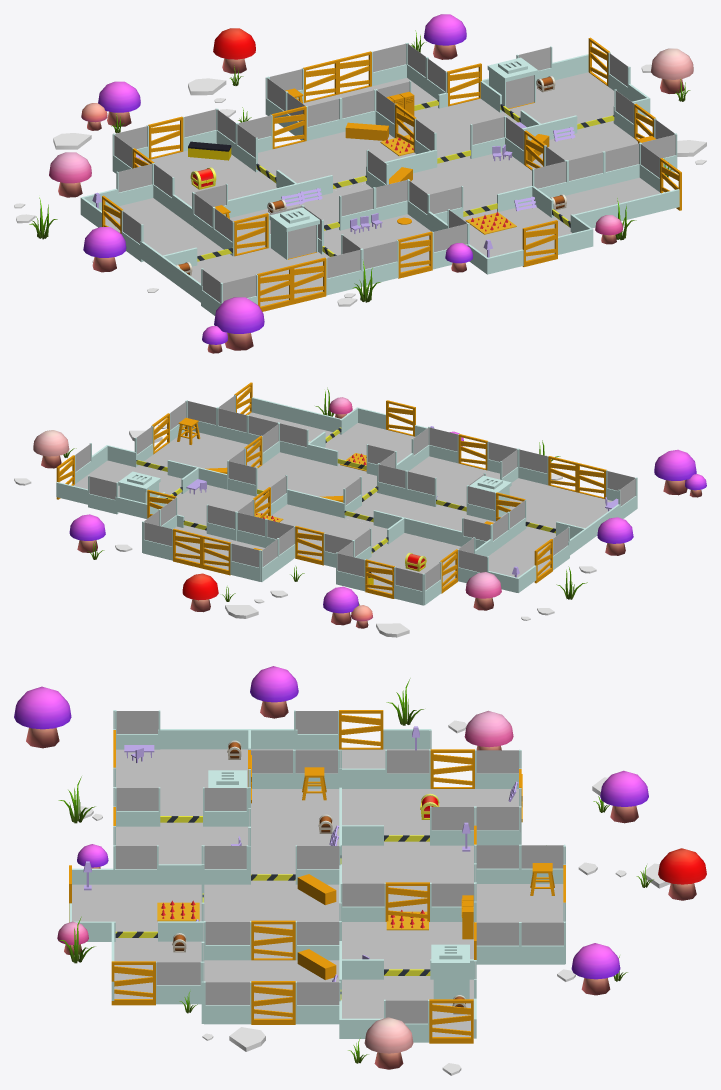
Rendered from map5.fbx.
The picture shows the model from 3 angles, top to bottom: view 1: azimuth 30°, elevation 25°; view 2: azimuth 150°, elevation 25°; view 3: azimuth 270°, elevation 25°; orthographic projection. The views are drawn at different scales.
Visible parts, largest first — view 1: room_2, Room_1, room_4, room_11, Room_3, room_10, room_9, room_12, room_7, Room_6, room_8, room_5 (+22 smaller); view 2: Room_1, room_4, Room_3, room_2, room_11, room_10, room_9, Room_6, room_7, room_12, room_5, room_8 (+11 smaller); view 3: Room_1, Room_3, room_4, Room_6, room_7, room_11, room_2, room_10, room_8, room_5, room_9, room_12 (+16 smaller).
Boxes of the visible parts, x1,y1,x2,y2 form: room_2: (237, 89, 437, 201); Room_1: (112, 108, 297, 226); room_4: (389, 116, 567, 228); room_11: (160, 247, 362, 315); Room_3: (193, 149, 409, 256); room_10: (512, 89, 677, 194); room_9: (482, 46, 650, 139); room_12: (80, 163, 232, 273); room_7: (302, 205, 469, 286); Room_6: (265, 43, 447, 140); room_8: (463, 186, 593, 274); room_5: (375, 81, 542, 166); Room_1: (336, 517, 492, 605); room_4: (227, 422, 396, 517); Room_3: (343, 463, 526, 552); room_2: (236, 475, 403, 567); room_11: (501, 448, 637, 542); room_10: (134, 400, 278, 474); room_9: (56, 443, 197, 518); Room_6: (142, 497, 295, 581); room_7: (396, 426, 518, 513); room_12: (458, 526, 586, 592); room_5: (150, 467, 267, 540); room_8: (308, 407, 434, 472); Room_1: (339, 749, 521, 845); Room_3: (248, 749, 342, 884); room_4: (201, 845, 343, 960); Room_6: (473, 844, 565, 964); room_7: (113, 787, 248, 884); room_11: (113, 710, 250, 825); room_2: (339, 807, 476, 921); room_10: (201, 922, 342, 1024); room_8: (69, 861, 201, 941); room_5: (339, 883, 476, 979); room_9: (339, 960, 476, 1042); room_12: (250, 710, 431, 768).
Size of what is drawn, in the model's own units: 61.92 by 5.48 by 50.04.
